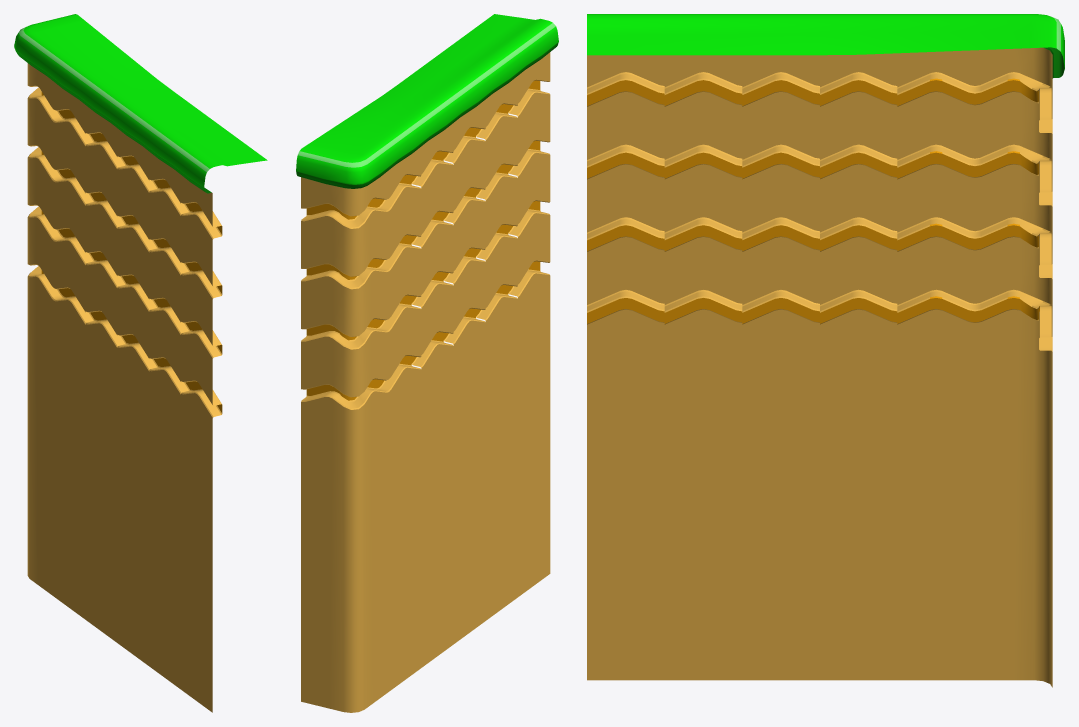
The model's file is Ground_Left.fbx.
3 renders of one model, left to right at view 1: azimuth 30°, elevation 25°; view 2: azimuth 150°, elevation 25°; view 3: azimuth 270°, elevation 25°, orthographic. The views are drawn at different scales.
Parts seen in each view (by area): view 1: Ground_Left; view 2: Ground_Left; view 3: Ground_Left.
Part boxes in pixels (x1=…): Ground_Left: x1=14, y1=14, x2=267, y2=712; Ground_Left: x1=296, y1=14, x2=558, y2=712; Ground_Left: x1=587, y1=14, x2=1064, y2=687.
Bounding box in the file's own units: 232 × 1893 × 1232.
